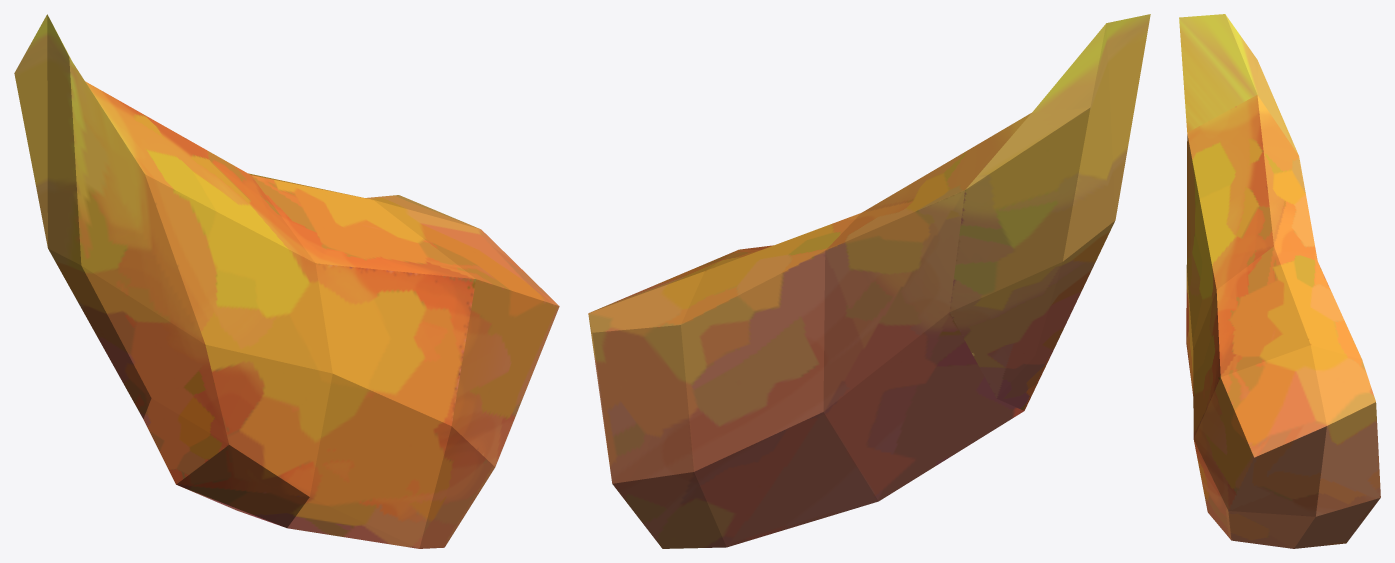
File: Grips3Hollow.fbx
3 renders of one model, left to right at view 1: azimuth 30°, elevation 25°; view 2: azimuth 150°, elevation 25°; view 3: azimuth 270°, elevation 25°, orthographic. The views are drawn at different scales.
Visible parts, largest first — view 1: Grips3Hollow; view 2: Grips3Hollow; view 3: Grips3Hollow.
Part boxes in pixels (x1,y1,x2,y2): Grips3Hollow: (14, 14, 559, 548); Grips3Hollow: (588, 14, 1150, 548); Grips3Hollow: (1179, 14, 1380, 548).
Bounding box in the file's own units: 1.26 × 2.51 × 2.81.
Materials: 1 (1 with a texture image).
